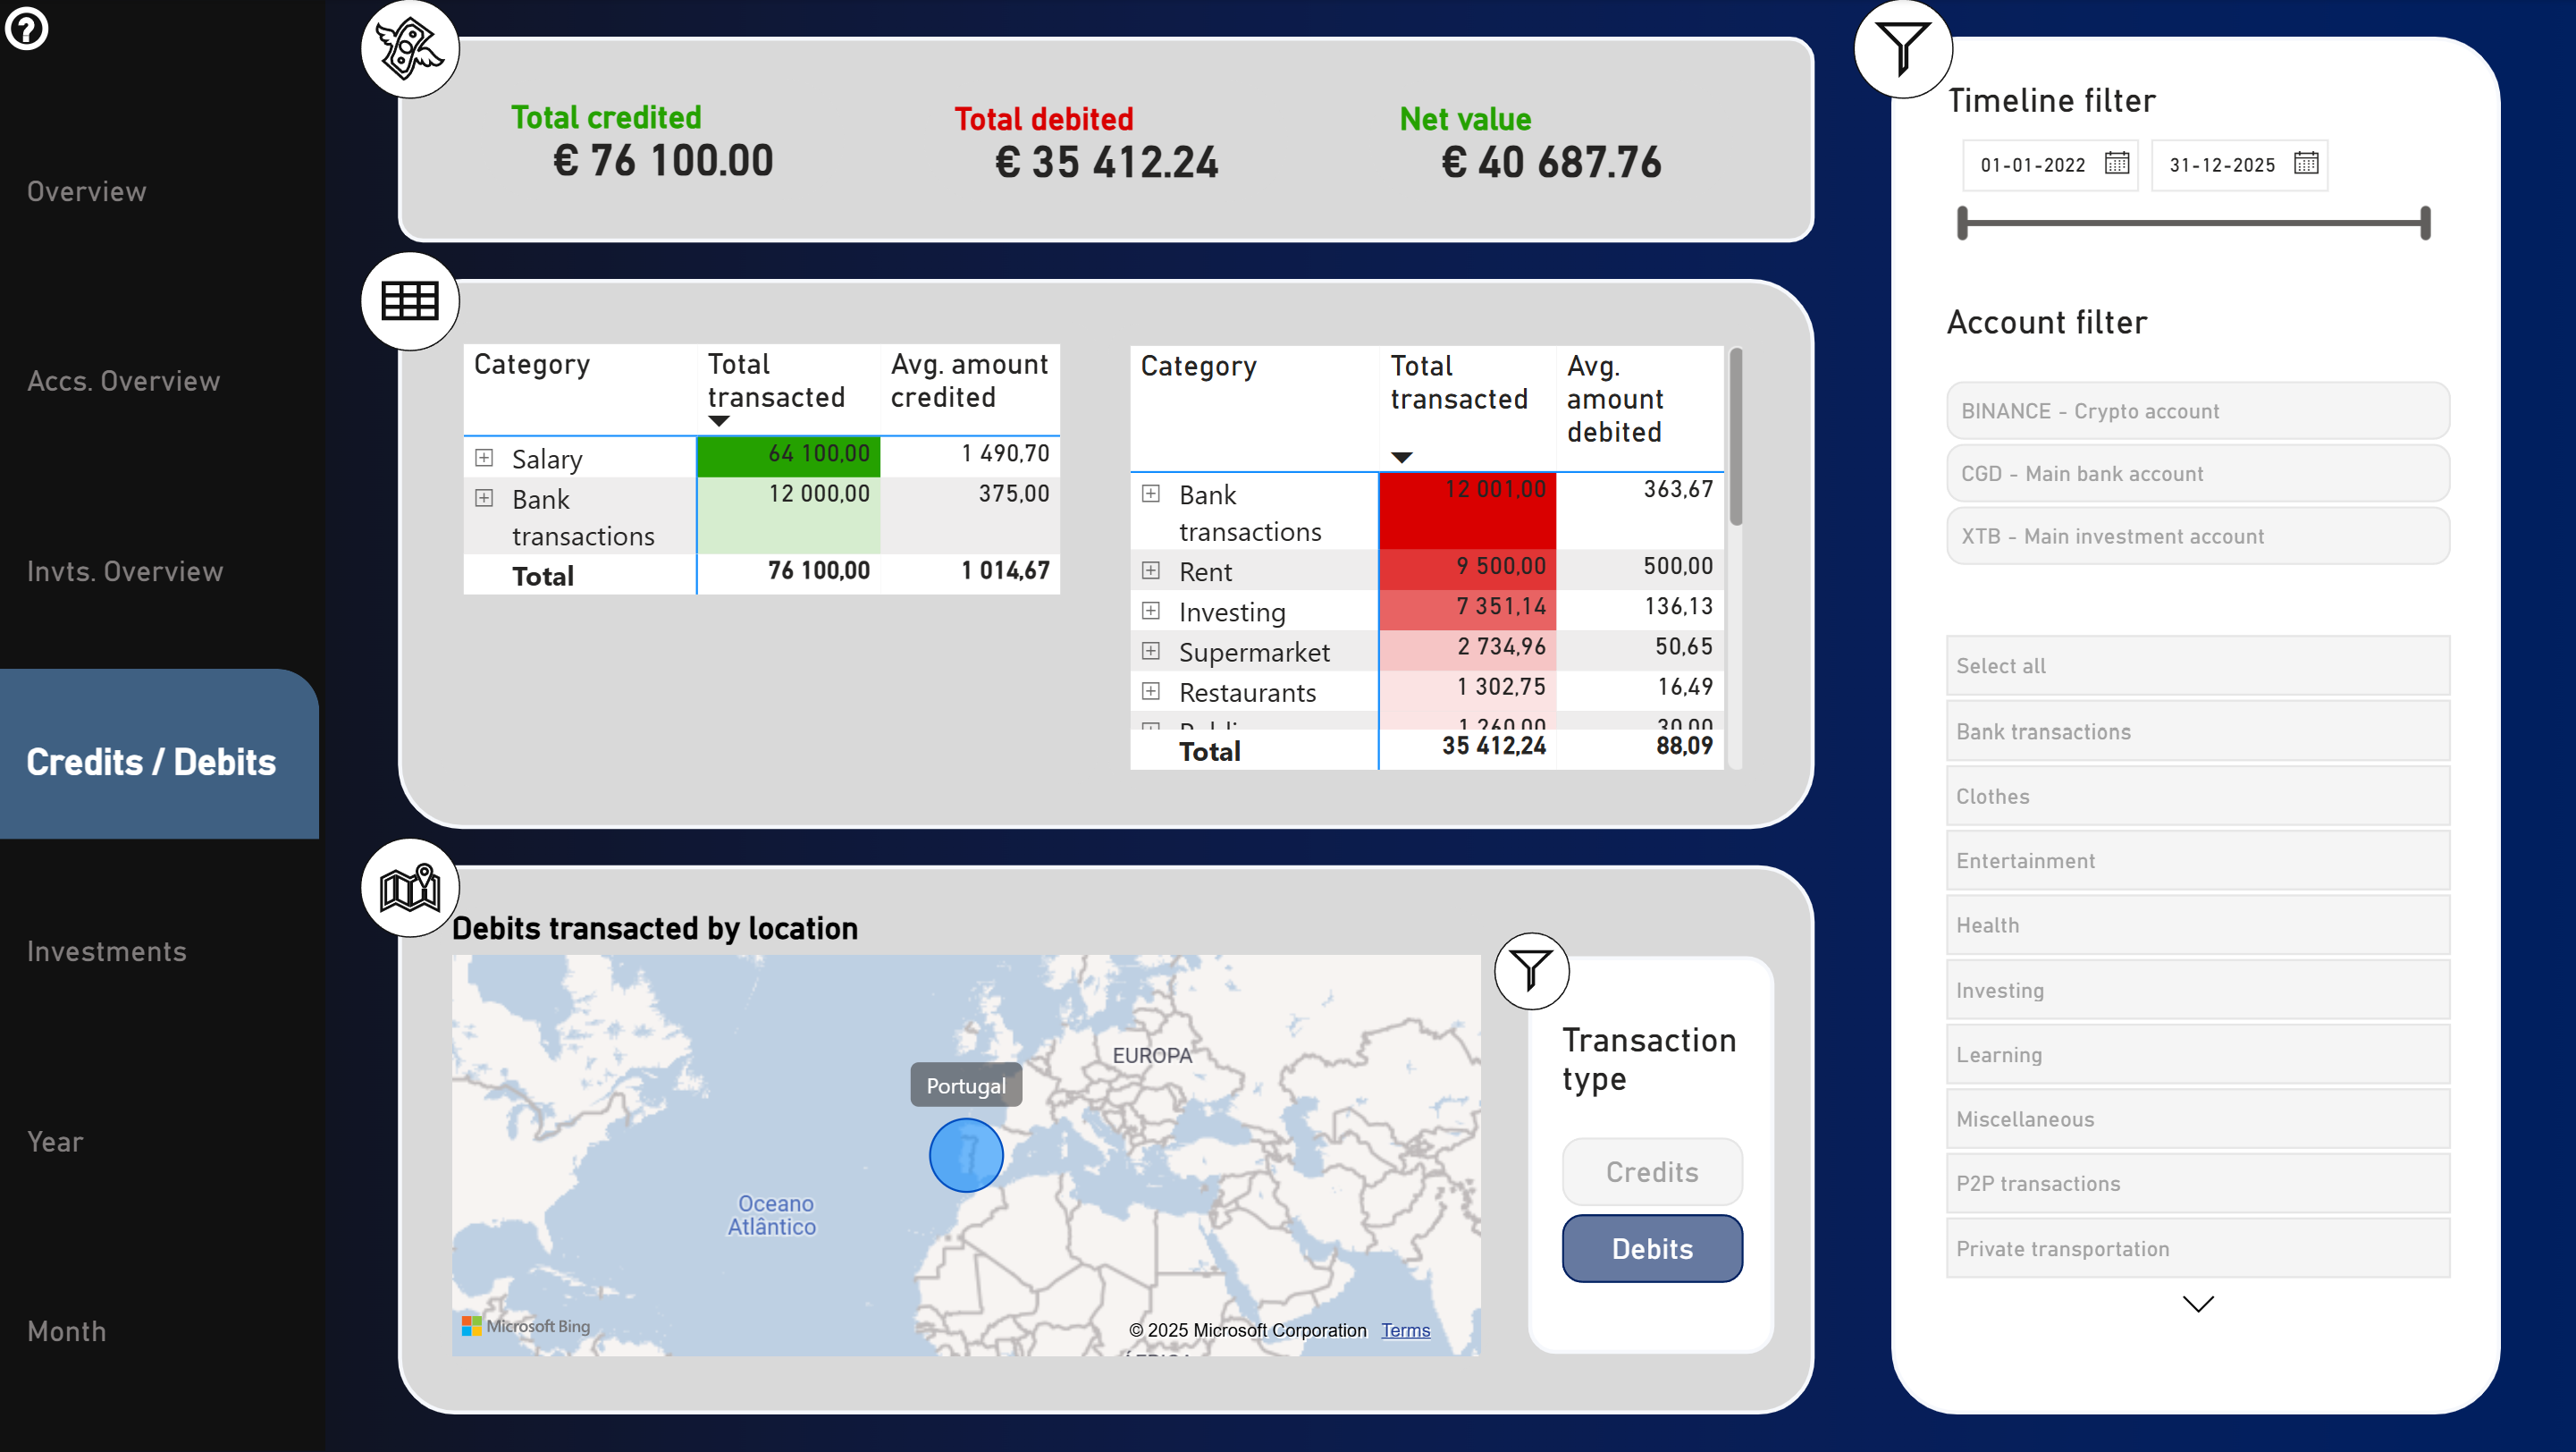

What the dashboard file says about the page in this screenshot:
{"tool":"powerbi","page":{"name":"Credits / Debits","canvas":[1280,720],"ordinal":3},"visuals":[{"type":"pivotTable","fields":{"Rows":["Categories.Category","Stores.Store"],"Values":["Sum(Credits.Transaction)","Credits.Average Amount Credited"]},"box":[220.5,160.3,325,229.4],"z":0},{"type":"advancedSlicerVisual","title":"Categories filter","fields":{"Values":["Categories.Category"]},"box":[960,275,260,385],"z":1000},{"type":"pivotTable","fields":{"Rows":["Categories.Category","Stores.Store"],"Values":["Sum(Debits.Transaction)","Debits.Average Amount Debited"]},"box":[550.8,161.2,325,229.4],"z":3000},{"type":"card","title":"Total credited","fields":{"Values":["Credits.Total Credited"]},"box":[240,40,180,60],"z":5000},{"type":"map","fields":{"Category":["Locations.Location Hierarchy.Region","Locations.Location Hierarchy.Country","Locations.Location Hierarchy.City"],"Size":["Locations._map_values"]},"box":[220,450,520,230],"z":7000},{"type":"advancedSlicerVisual","fields":{"Values":["Transaction type.Transaction type"]},"box":[770,504.8,100.2,155.6],"z":9000},{"type":"pageNavigator","box":[0,30.1,160.3,689.9],"z":11000},{"type":"actionButton","title":"Information button","box":[0,0,30,30],"z":12000},{"type":"slicer","title":"Timeline filter","fields":{"Values":["Calendar.Date"]},"box":[960,40,260,85],"z":13000},{"type":"card","title":"Total debited","fields":{"Values":["Debits.Total Debited"]},"box":[460,40.4,180,60],"z":14000},{"type":"card","title":"Net value","fields":{"Values":["Credits.Net value"]},"box":[680,40.7,180,60.2],"z":15000},{"type":"advancedSlicerVisual","title":"Account filter","fields":{"Values":["Accounts.Account_full_name"]},"box":[960,150,260.4,150],"z":16000}]}

Visuals, with their boxes on the page's 1280x720 design canvas (x1, y1, x2, y2). These are canvas units, not pixel positions in the 2576x1452 screenshot, which may show the page scaled, cropped or inside an application window:
pivotTable - Categories.Category x Stores.Store: <bbox>220, 160, 546, 390</bbox>
"Categories filter" advancedSlicerVisual: <bbox>960, 275, 1220, 660</bbox>
pivotTable - Categories.Category x Stores.Store: <bbox>551, 161, 876, 391</bbox>
"Total credited" card: <bbox>240, 40, 420, 100</bbox>
map - Locations.Location Hierarchy.Region x Locations.Location Hierarchy.Country: <bbox>220, 450, 740, 680</bbox>
advancedSlicerVisual - Transaction type.Transaction type: <bbox>770, 505, 870, 660</bbox>
pageNavigator: <bbox>0, 30, 160, 720</bbox>
"Information button" actionButton: <bbox>0, 0, 30, 30</bbox>
"Timeline filter" slicer: <bbox>960, 40, 1220, 125</bbox>
"Total debited" card: <bbox>460, 40, 640, 100</bbox>
"Net value" card: <bbox>680, 41, 860, 101</bbox>
"Account filter" advancedSlicerVisual: <bbox>960, 150, 1220, 300</bbox>
